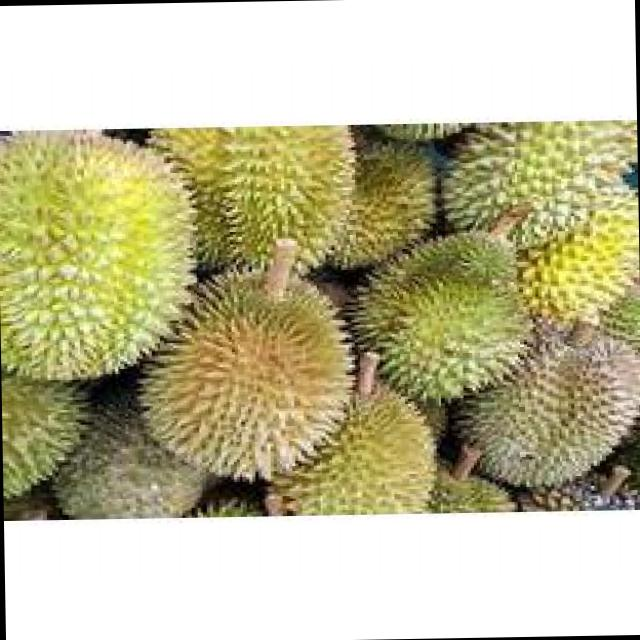fruit: (116, 244, 372, 498), (0, 122, 210, 404), (330, 211, 551, 475)
